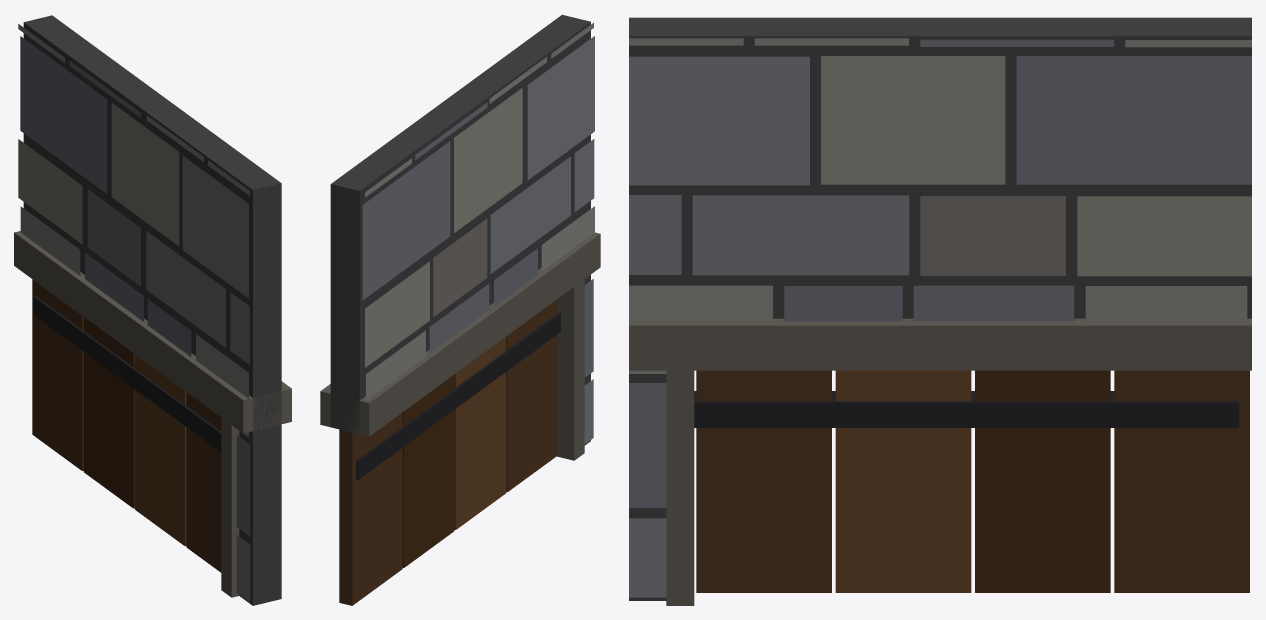
Rendered from wall-stone-door-shut-high-r.glb.
The picture shows the model from 3 angles, left to right: view 1: azimuth 30°, elevation 25°; view 2: azimuth 150°, elevation 25°; view 3: azimuth 270°, elevation 25°; orthographic projection. The views are drawn at different scales.
Parts seen in each view (by area): view 1: wall-stone-door-shut-high-r; view 2: wall-stone-door-shut-high-r; view 3: wall-stone-door-shut-high-r.
Part boxes in pixels (x1,y1,x2,y2): wall-stone-door-shut-high-r: (14,15,291,605); wall-stone-door-shut-high-r: (320,14,600,605); wall-stone-door-shut-high-r: (629,17,1251,605).
Bounding box in the file's own units: 0.122 × 1 × 1.
